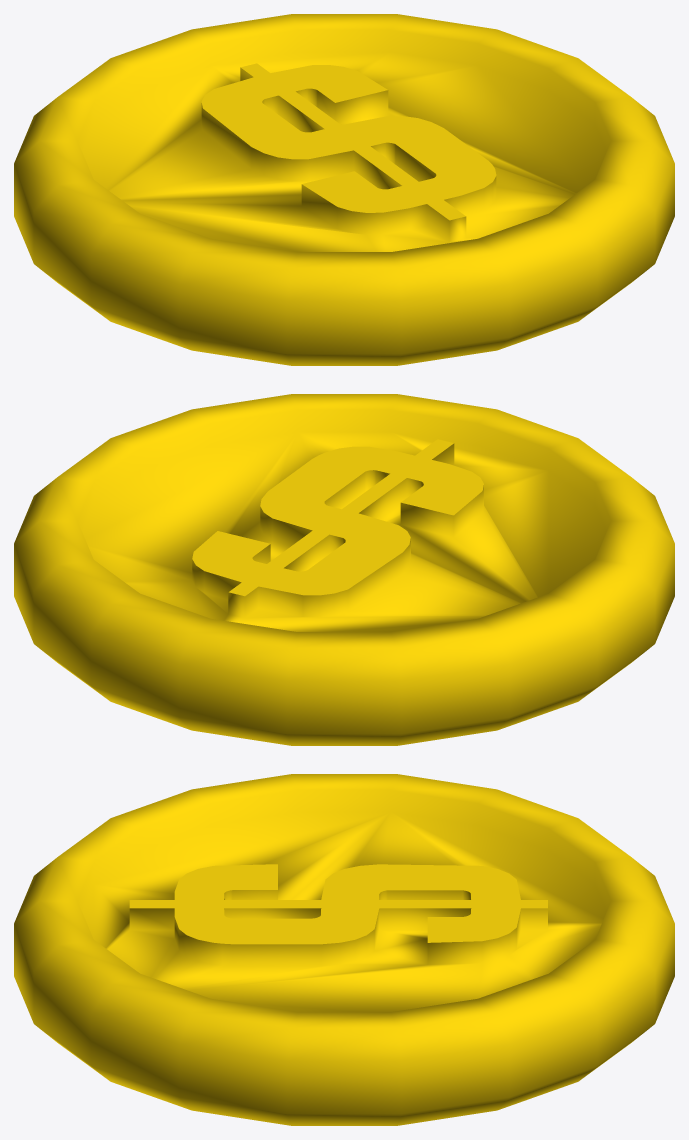
File: coin.glb
3 views of the same model, one above another, from view 1: azimuth 30°, elevation 25°; view 2: azimuth 150°, elevation 25°; view 3: azimuth 270°, elevation 25° (orthographic).
Visible parts, largest first — view 1: Coin_New; view 2: Coin_New; view 3: Coin_New.
Boxes of the visible parts, <box> form: Coin_New: <box>14,14,674,365</box>; Coin_New: <box>14,394,674,745</box>; Coin_New: <box>14,774,674,1125</box>.
Bounding box in the file's own units: 1.97 × 0.3264 × 2.
